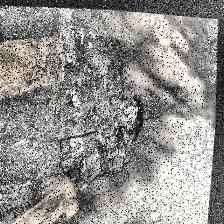pothole: (107, 84, 153, 144)
